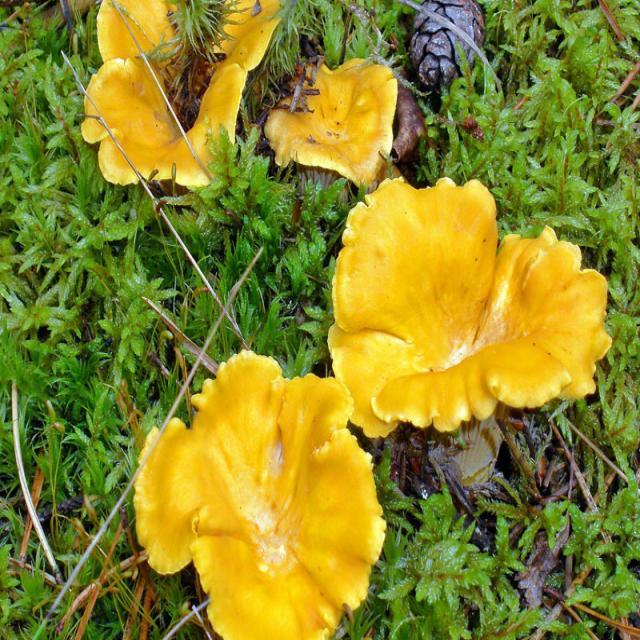Cantharellus cibarius: (131, 349, 385, 640), (328, 181, 612, 428), (83, 0, 279, 193), (267, 60, 398, 186)
